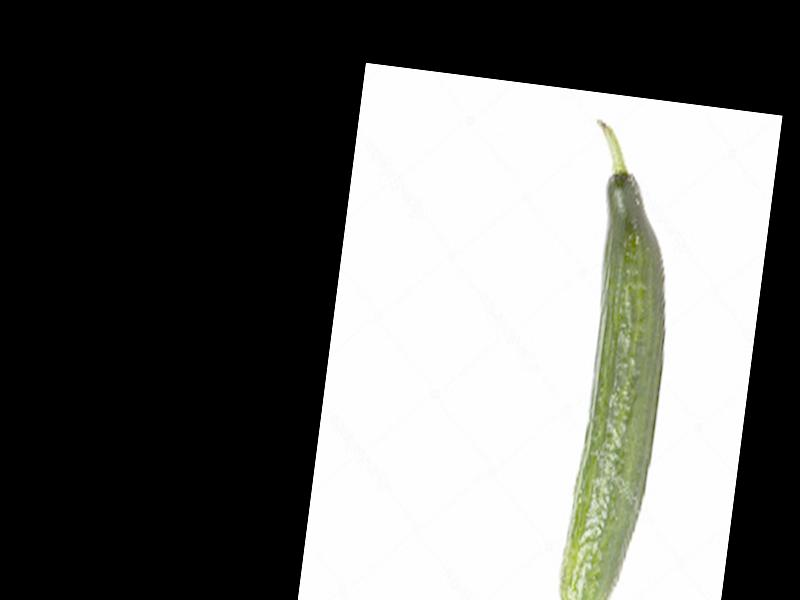Cucumber: (535, 116, 691, 600)
